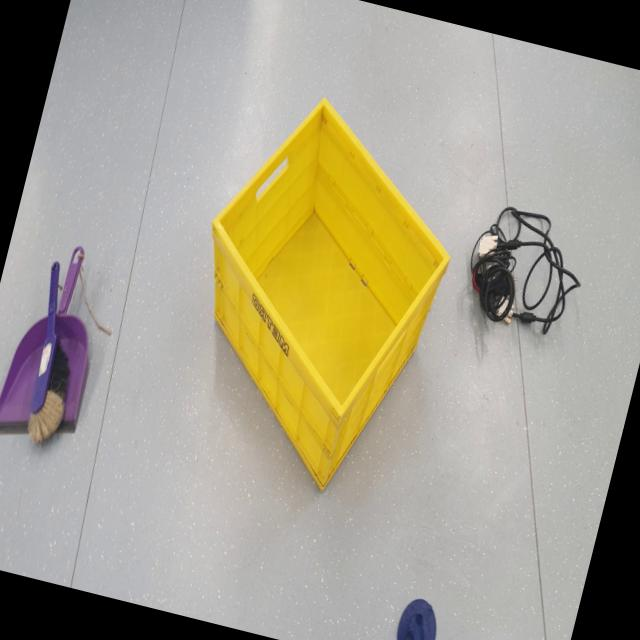box: (143, 64, 486, 530)
